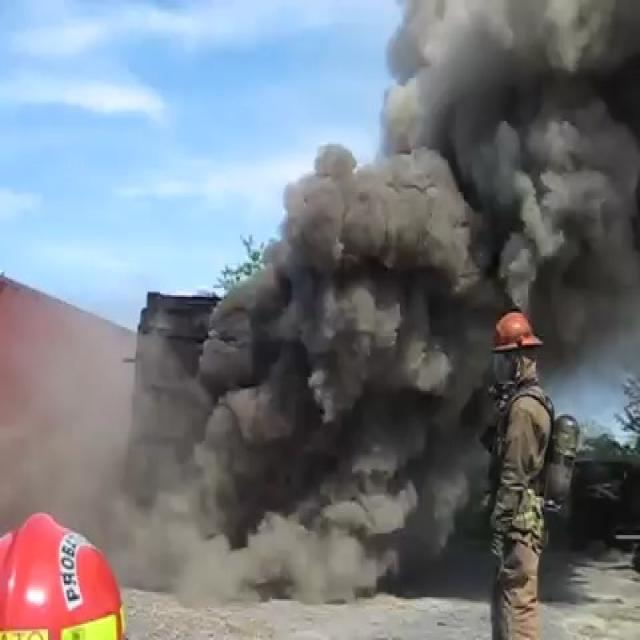Smoke: (192, 87, 508, 587)
